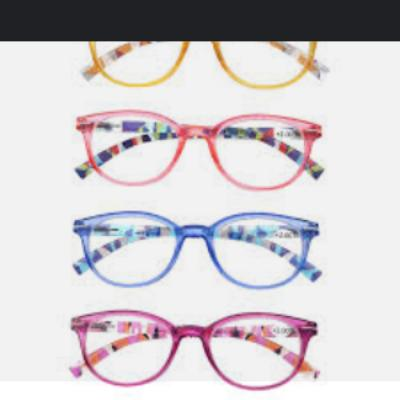glasses: (68, 205, 327, 297), (68, 106, 329, 197), (68, 305, 322, 392), (81, 40, 339, 95)
